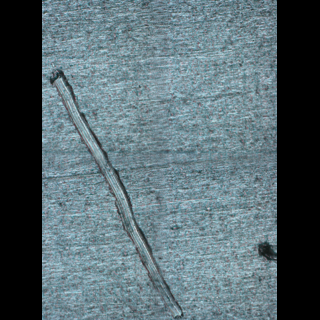d: (49, 66, 186, 319)
